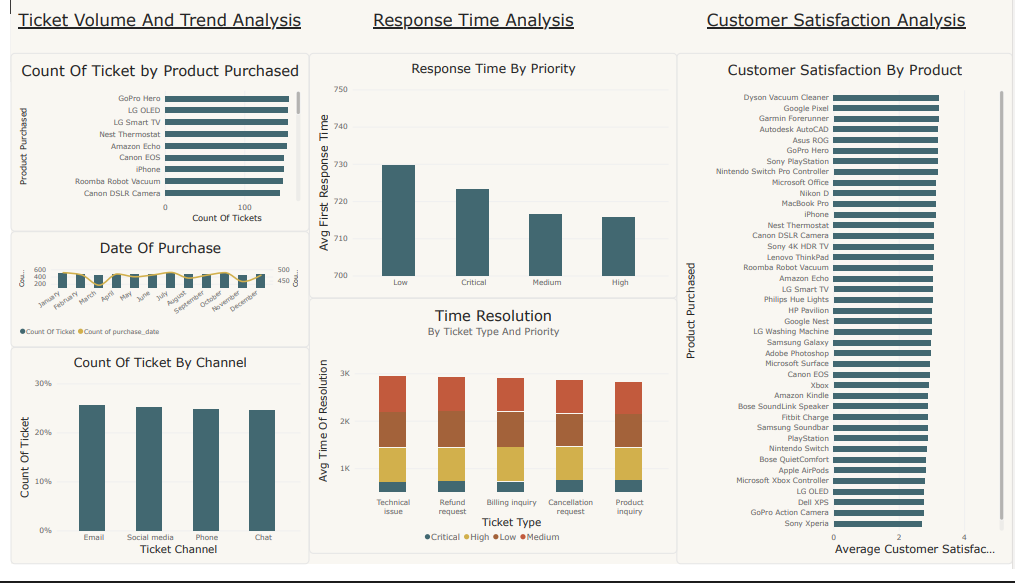

What the dashboard file says about the page in this screenshot:
{"tool":"powerbi","page":{"name":"All Visualization","canvas":[1920,1080],"ordinal":3},"visuals":[{"type":"clusteredBarChart","title":"Count Of Ticket by Product Purchased","fields":{"Category":["public customer_tickets.product_purchased"],"Y":["public customer_tickets.Products Sold"]},"box":[0,100,572,342],"z":0},{"type":"textbox","box":[0,16,572,84],"z":1000},{"type":"columnChart","title":"Count Of Ticket By Channel","fields":{"Category":["public customer_tickets.ticket_channel"],"Y":["public customer_tickets.Count Of Ticket"]},"box":[0,664,572,416],"z":2000},{"type":"textbox","box":[572,16,630,84],"z":5000},{"type":"barChart","title":"Customer Satisfaction By Product","fields":{"Category":["public customer_tickets.product_purchased"],"Y":["Avg(public customer_tickets.satisfaction_rating)"]},"box":[1276,100,644,980],"z":6000},{"type":"textbox","box":[1276,16,612,84],"z":7000},{"type":"lineStackedColumnComboChart","title":"Date Of Purchase","fields":{"Category":["public customer_tickets.purchase_date.Variation.Date Hierarchy.Month"],"Y":["public customer_tickets.Count Of Ticket"],"Y2":["CountNonNull(public customer_tickets.purchase_date)"]},"box":[0,442,572,222],"z":8000},{"type":"clusteredColumnChart","title":"Response Time By Priority","fields":{"Category":["public customer_tickets.priority"],"Y":["Avg(public customer_tickets.Total Minutes)"]},"box":[571.7,100,705,470],"z":8001},{"type":"columnChart","title":"Time Resolution","fields":{"Category":["public customer_tickets.ticket_type"],"Series":["public customer_tickets.priority"],"Y":["Avg(public customer_tickets.Total Minutes)"]},"box":[571.7,570,705,490],"z":8002}]}

Visuals, with their boxes in screenshot pixels (x1, y1, x2, y2), scaled from the page's 1920x1080 canvas onto the 1015x583 screenshot:
"Count Of Ticket by Product Purchased" clusteredBarChart: {"left": 0, "top": 54, "right": 302, "bottom": 239}
textbox: {"left": 0, "top": 9, "right": 302, "bottom": 54}
"Count Of Ticket By Channel" columnChart: {"left": 0, "top": 358, "right": 302, "bottom": 582}
textbox: {"left": 302, "top": 9, "right": 635, "bottom": 54}
"Customer Satisfaction By Product" barChart: {"left": 675, "top": 54, "right": 1014, "bottom": 582}
textbox: {"left": 675, "top": 9, "right": 998, "bottom": 54}
"Date Of Purchase" lineStackedColumnComboChart: {"left": 0, "top": 239, "right": 302, "bottom": 358}
"Response Time By Priority" clusteredColumnChart: {"left": 302, "top": 54, "right": 675, "bottom": 308}
"Time Resolution" columnChart: {"left": 302, "top": 308, "right": 675, "bottom": 572}
